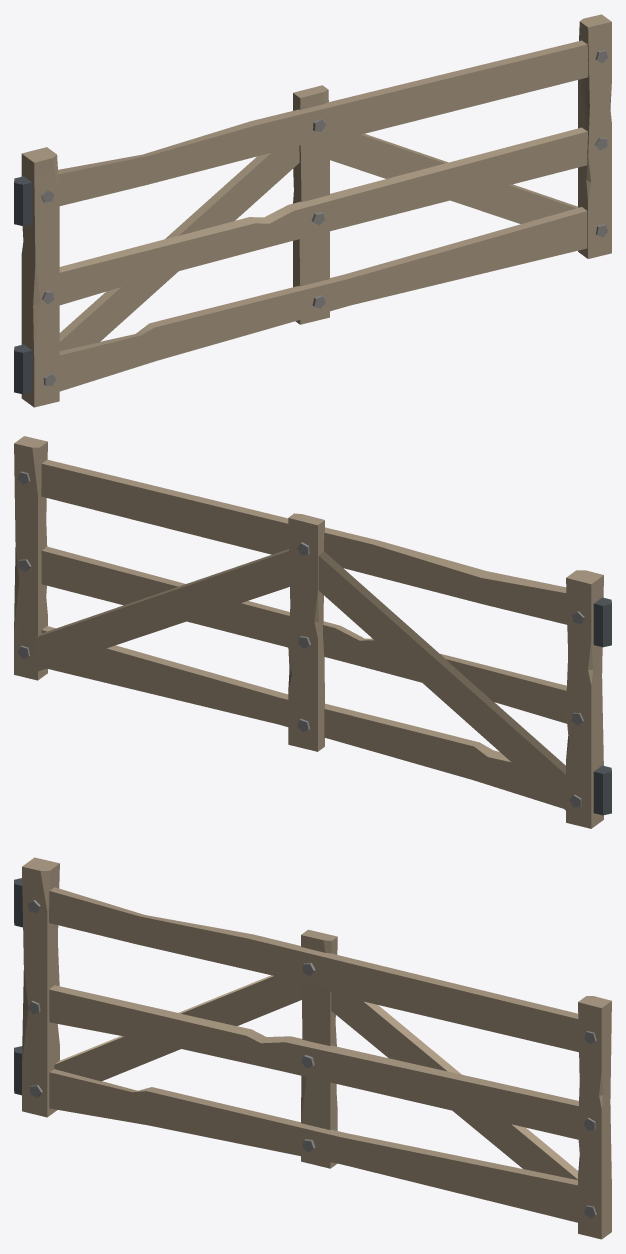
Rendered from kingdom_SM_Prop_Fence_Gate_01.gltf.
The picture shows the model from 3 angles, top to bottom: view 1: azimuth 30°, elevation 25°; view 2: azimuth 150°, elevation 25°; view 3: azimuth 330°, elevation 25°; orthographic projection.
Parts seen in each view (by area): view 1: SM_Prop_Fence_Gate_01; view 2: SM_Prop_Fence_Gate_01; view 3: SM_Prop_Fence_Gate_01.
Part boxes in pixels (<box>): SM_Prop_Fence_Gate_01: <box>14,14,611,407</box>; SM_Prop_Fence_Gate_01: <box>14,436,611,828</box>; SM_Prop_Fence_Gate_01: <box>14,857,611,1239</box>.
Bounding box in the file's own units: 2.64 × 1.04 × 0.1292.
Materials: 1 (1 with a texture image).
